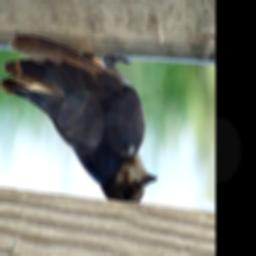Swallow: (0, 34, 158, 204)
